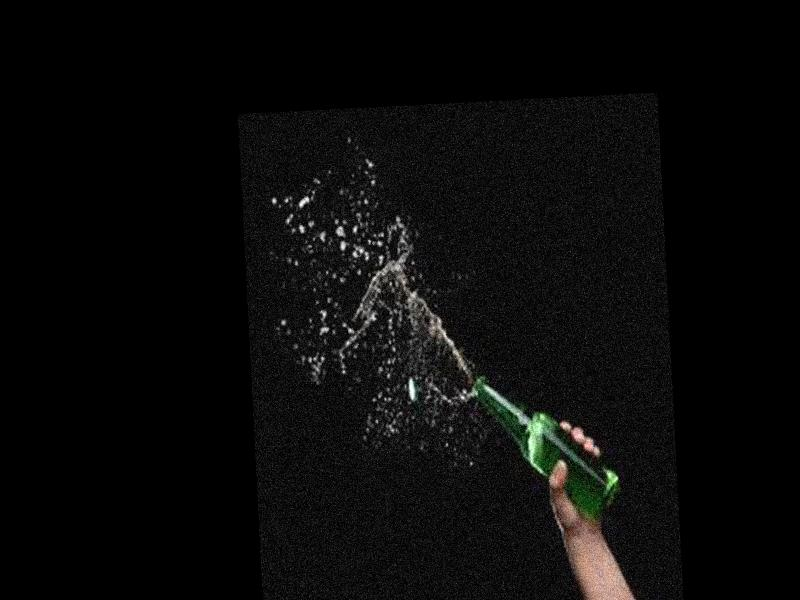Beer: (471, 371, 624, 530)
